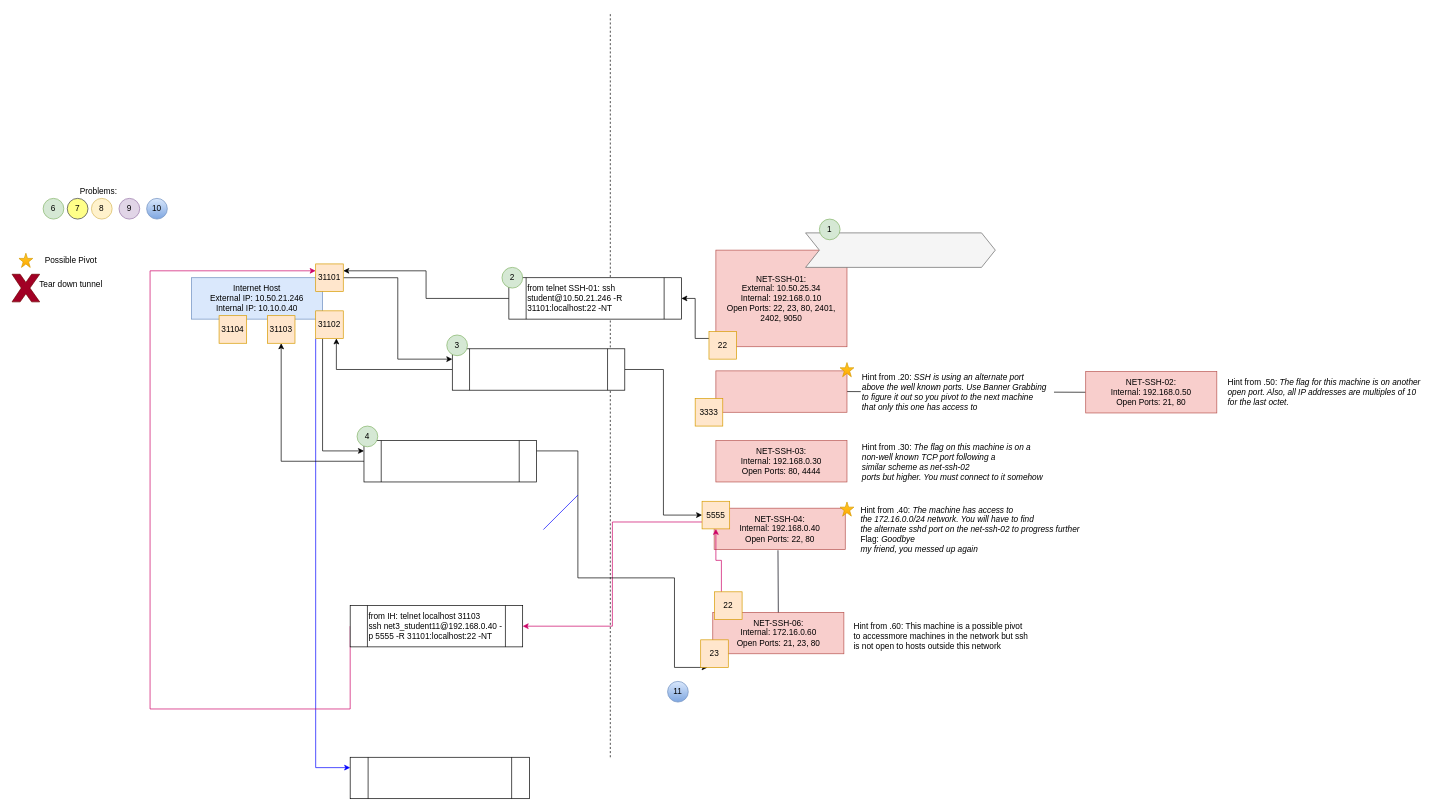
The diagram is 1439 pixels wide and 811 high, and some of its shapes have lost their labels. The shapes that lost their labels are listed below. From the top down, each one's centre as x and y in pixels, then its label:
At point 900,249: "telnet into NET-SSH-01 ifconfig (private IP) netstat -plnt (what's open)".
At point 538,369: "from IH: ssh net3_student11@localhost -p 31101 -L 31102:192.168.0.40:5555 - NT".
At point 781,391: "NET-SSH-02: Internal: 192.168.0.20 Open Ports: 22, 80, 3333 (ssh)".
At point 449,461: "from IH: ssh net3_student11@localhost -p 31102 -L 31103:172.16.0.60:23 -NT".
At point 439,778: "from IH: ssh net3_student11@localhost -p 31102 -L 31104:localhost:31101 -NT".
